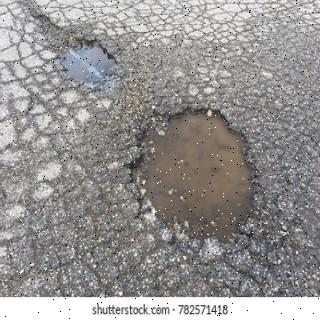pothole: (126, 109, 252, 244), (60, 46, 116, 84)
